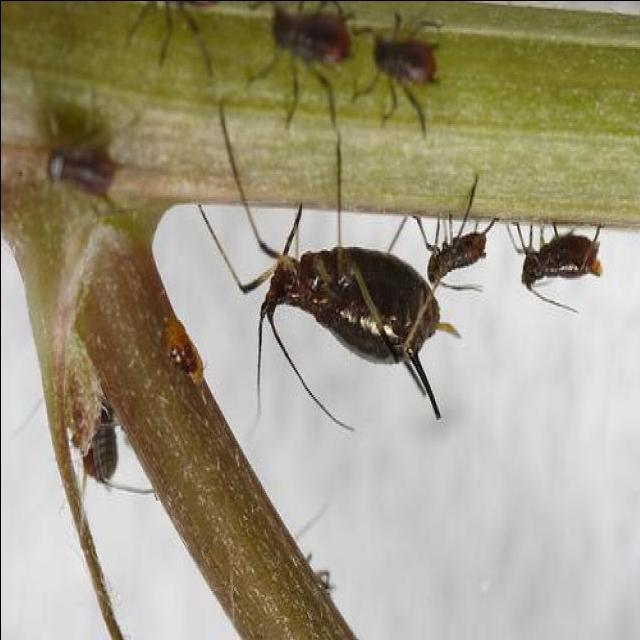aphid: (191, 117, 452, 419), (500, 198, 610, 317), (418, 188, 496, 310)
